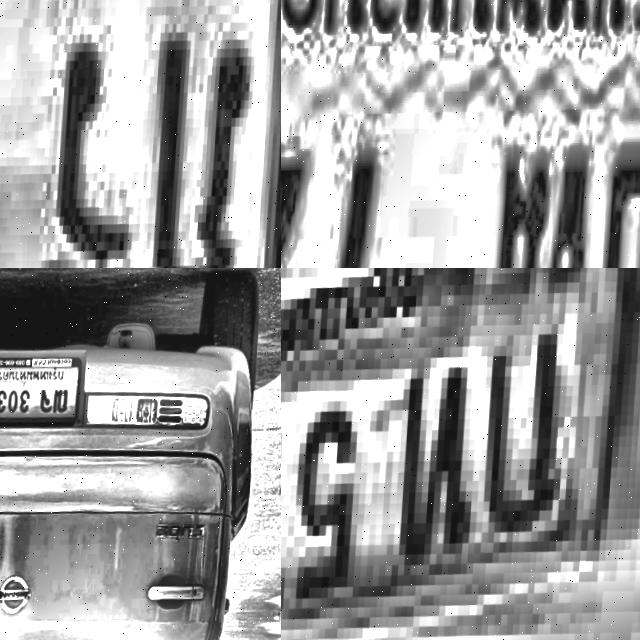license-plate: (281, 268, 640, 640), (281, 0, 640, 268), (0, 0, 281, 268), (0, 349, 84, 439)
